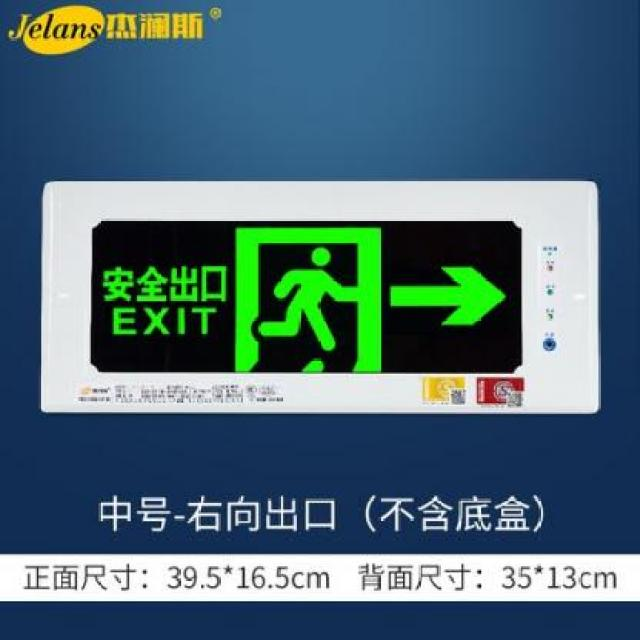exit_sign: (80, 214, 523, 377)
